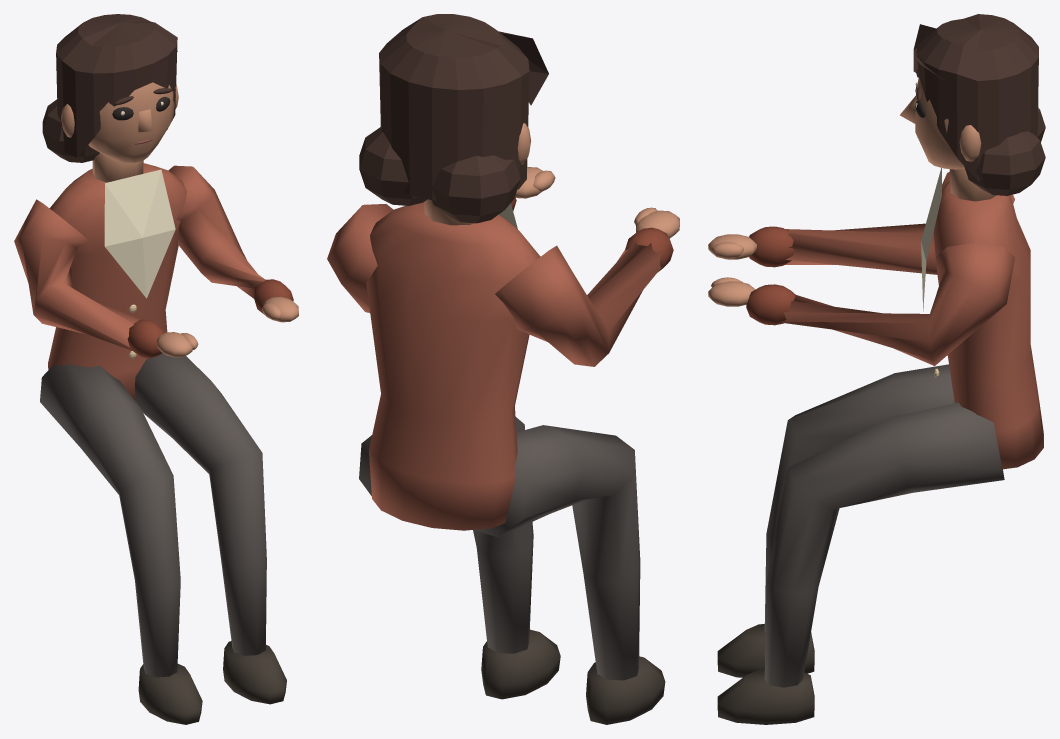
The model's file is desk_colleague.glb.
3 renders of one model, left to right at view 1: azimuth 30°, elevation 25°; view 2: azimuth 150°, elevation 25°; view 3: azimuth 270°, elevation 25°, orthographic. The views are drawn at different scales.
Visible parts, largest first — view 1: desk_colleague, IdleHead; view 2: desk_colleague, IdleHead; view 3: desk_colleague, IdleHead.
Boxes of the visible parts, x1,y1,x2,y2 form: desk_colleague: [14, 153, 298, 724]; IdleHead: [42, 14, 178, 162]; desk_colleague: [327, 167, 679, 724]; IdleHead: [359, 14, 548, 223]; desk_colleague: [708, 168, 1043, 724]; IdleHead: [900, 14, 1045, 195].
Bounding box in the file's own units: 0.4926 × 1.36 × 0.6278.
